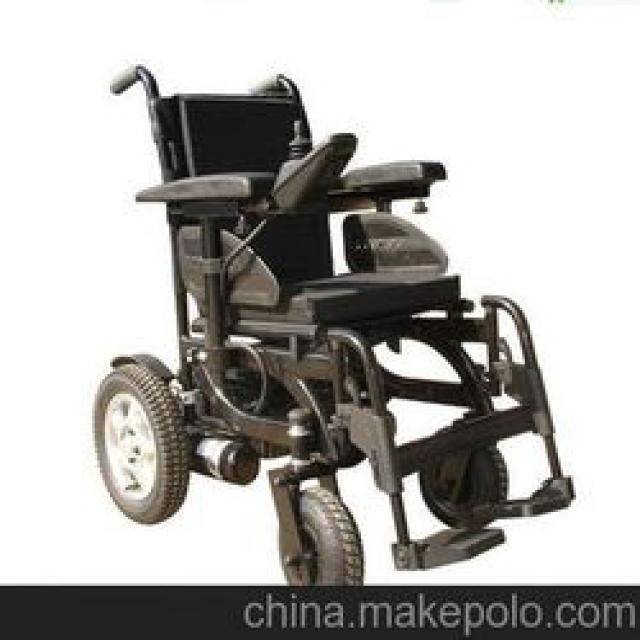wheelchair: (44, 49, 578, 584)
